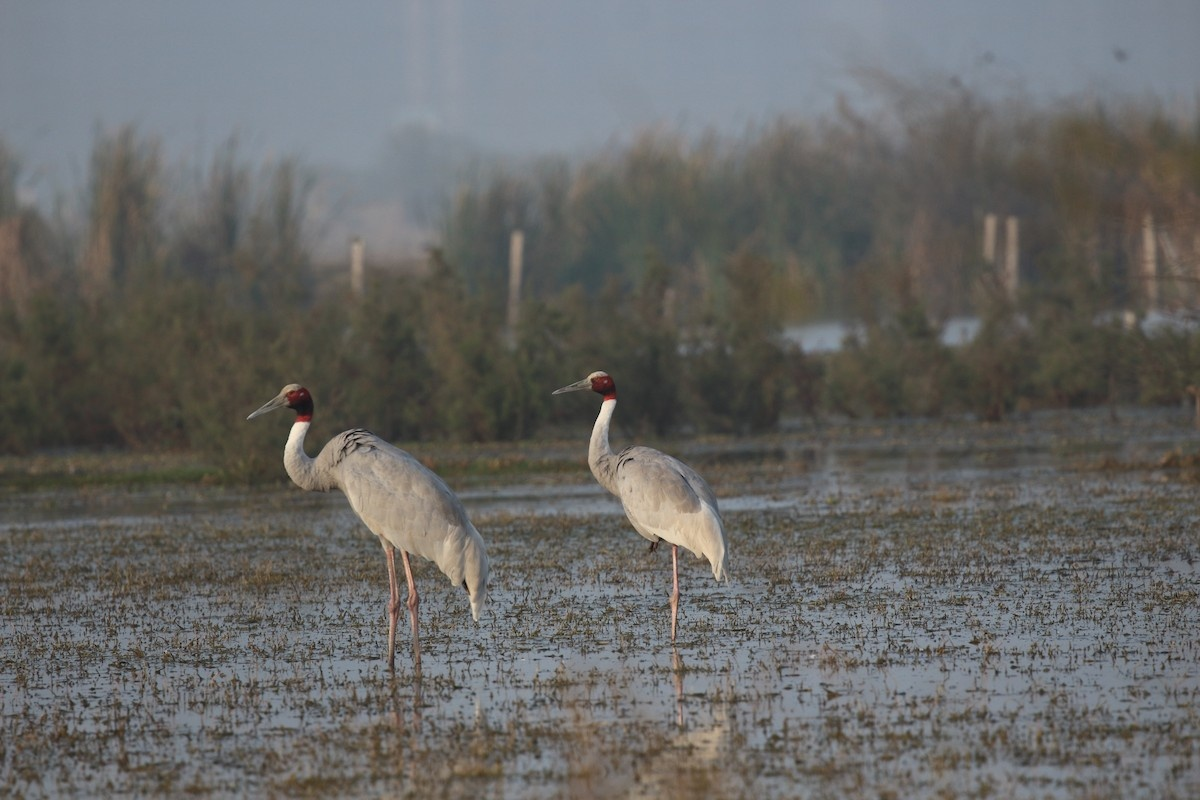crane: (242, 374, 499, 653), (549, 359, 738, 635)
